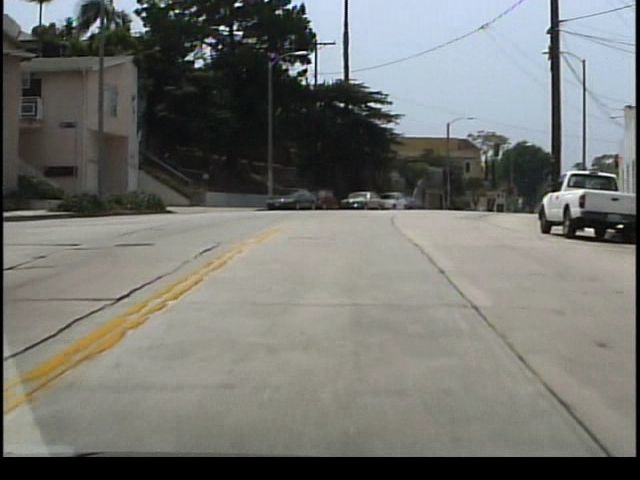person: (515, 194, 525, 215)
